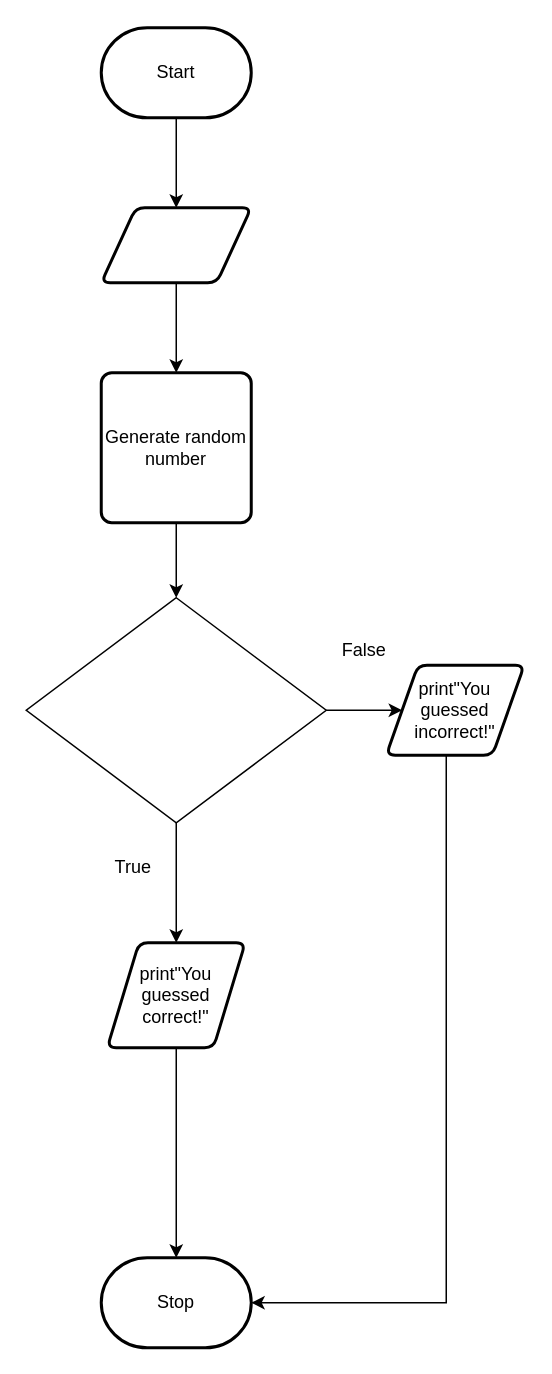
This 552x1374 diagram has some shape labels left out. Here are the shapes that lost their labels. From the top down, the box of each, then its label:
(99, 206, 252, 284): Get number
(25, 596, 326, 823): if number_entered_by_user == number
